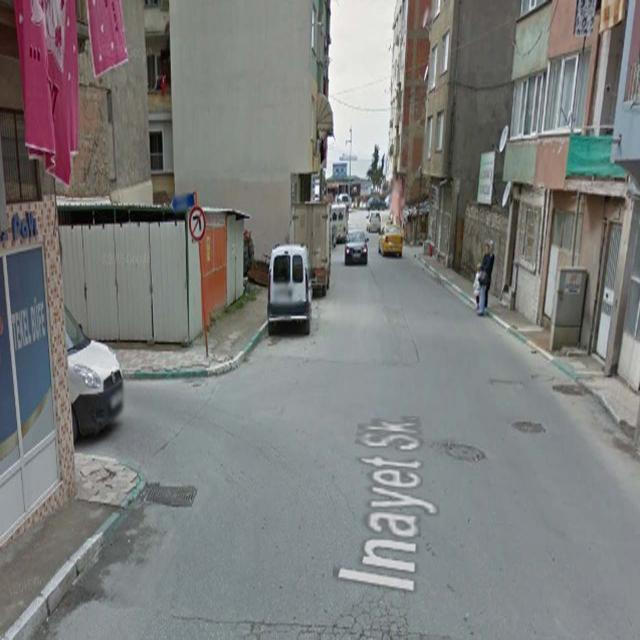soladonulmez: (188, 206, 206, 243)
